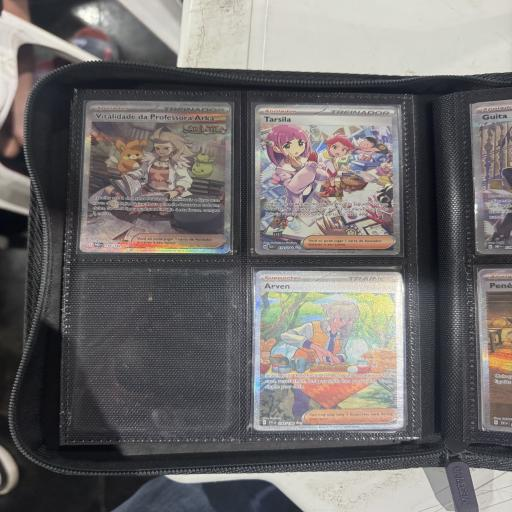card: (253, 271, 404, 432), (79, 102, 231, 254), (254, 104, 400, 256)
